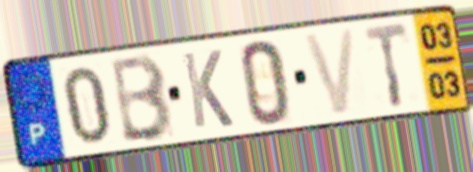0: (238, 37, 292, 128), (59, 64, 114, 147)
B: (110, 51, 176, 145)
K: (180, 47, 237, 131)
T: (361, 20, 411, 111)
V: (300, 26, 358, 118)
